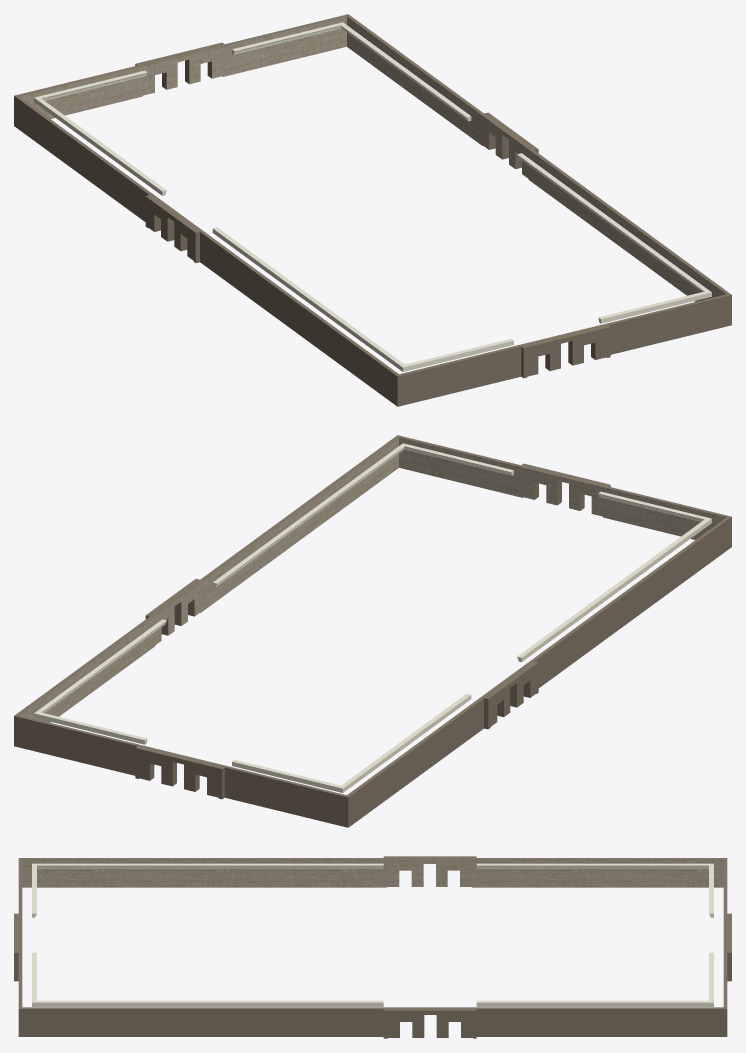
File: Wall.glb
The picture shows the model from 3 angles, top to bottom: view 1: azimuth 30°, elevation 25°; view 2: azimuth 150°, elevation 25°; view 3: azimuth 270°, elevation 25°; orthographic projection. The views are drawn at different scales.
Parts seen in each view (by area): view 1: wall_01, wall_detail; view 2: wall_01, wall_detail; view 3: wall_01, wall_detail.
Part boxes in pixels (x1,y1,x2,y2): wall_01: (14, 14, 731, 406); wall_detail: (34, 22, 711, 371); wall_01: (14, 435, 731, 827); wall_detail: (34, 443, 711, 792); wall_01: (14, 856, 731, 1038); wall_detail: (32, 863, 713, 1006).
Bounding box in the file's own units: 148 × 12.7 × 291.
Materials: 2 (1 with a texture image).
